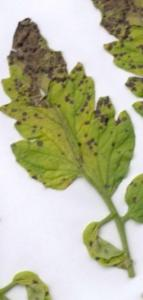Tomato Septoria leaf spot: (0, 0, 143, 231), (103, 151, 143, 238)
